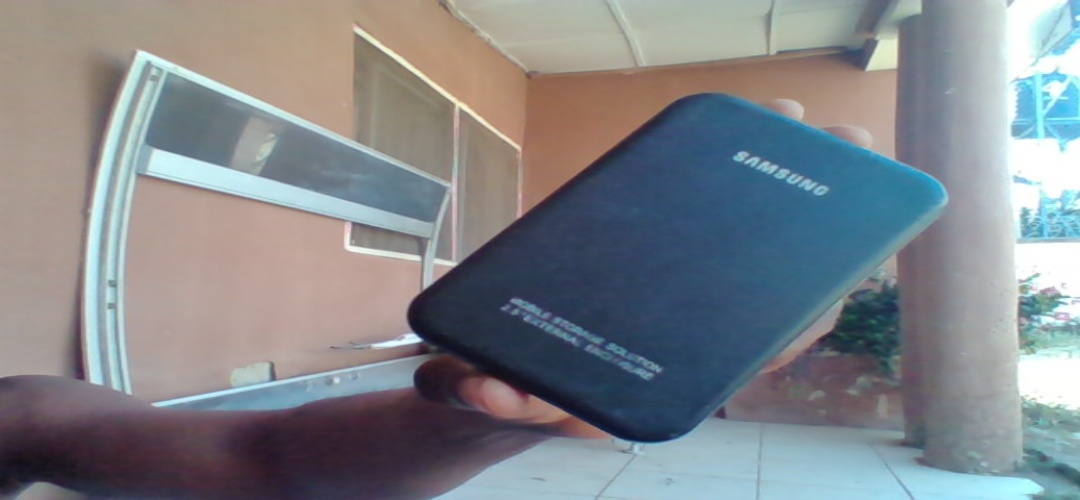hard_disk_case: (395, 72, 955, 455)
